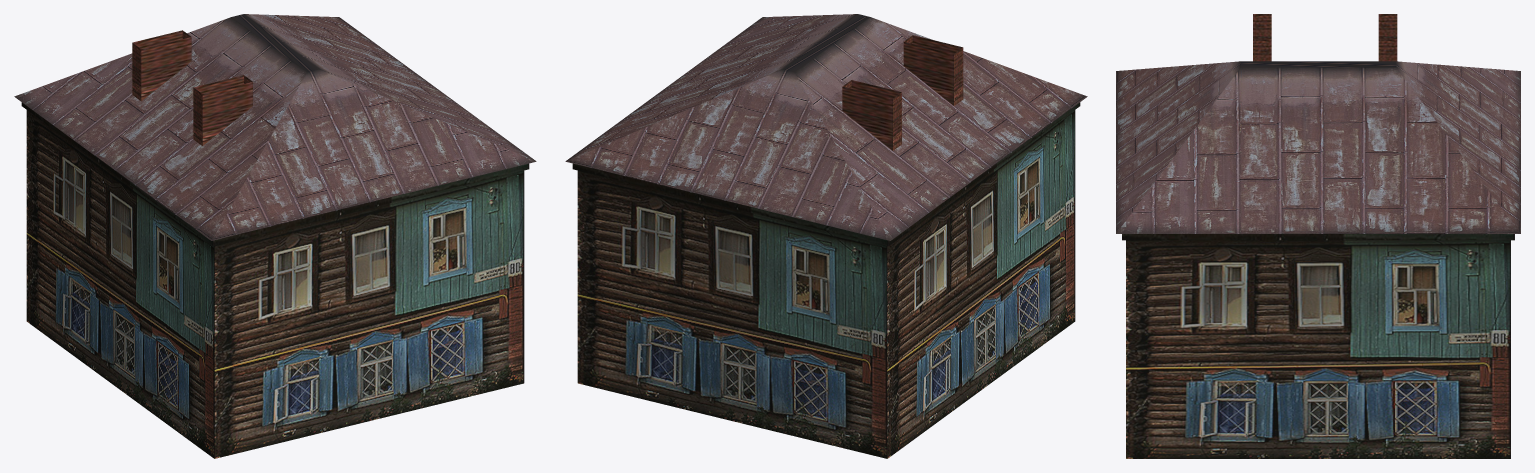
Rendered from sibir_dom_2et1.FBX.
3 views of the same model, side by side, from view 1: azimuth 30°, elevation 25°; view 2: azimuth 150°, elevation 25°; view 3: azimuth 270°, elevation 25° (orthographic). The views are drawn at different scales.
Visible parts, largest first — view 1: sibir_dom_2et1; view 2: sibir_dom_2et1; view 3: sibir_dom_2et1.
Part boxes in pixels (x1,y1,x2,y2): sibir_dom_2et1: (14, 14, 536, 458); sibir_dom_2et1: (565, 14, 1087, 458); sibir_dom_2et1: (1116, 14, 1520, 458).
Size of the model in its own units: 10.41 by 10.93 by 9.45.
